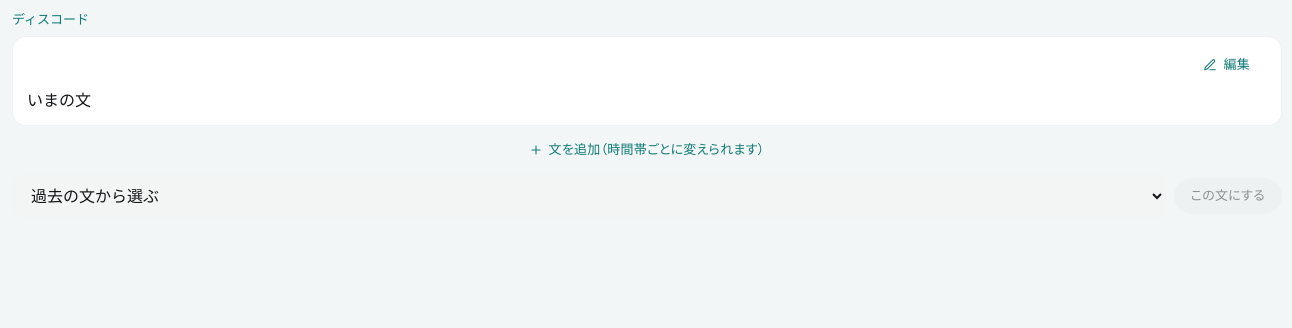
Test case: ChannelTextRow（トップの一番上の、いま投稿されている文） › その場で直す（編集） › 「やめる」で書きかけを捨てる。保存はしない
The image size is (1292, 328).
Click the button with aria-label "ディスコードの投稿する文を編集". click: x=1227, y=64
box: 1188,46 -> 1267,82
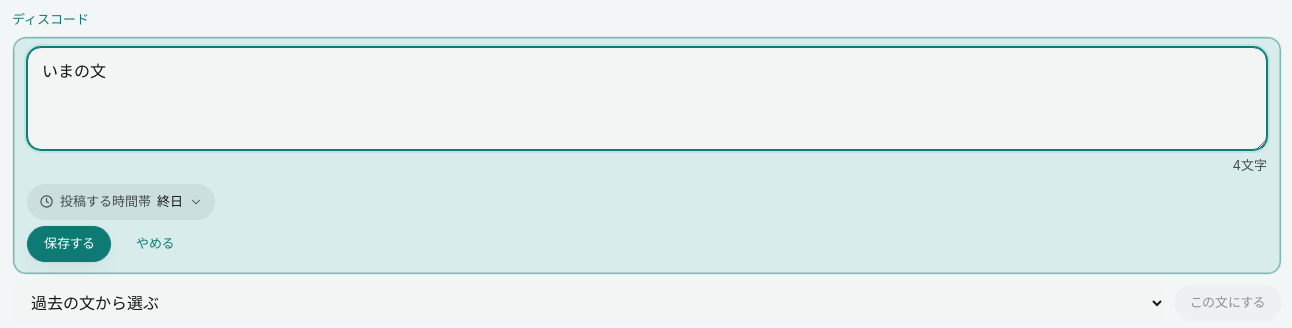
Replace the text in the text box named "ディスコードの投稿する文" with "捨てる文". click: x=647, y=98
box: 27,46 -> 1267,150
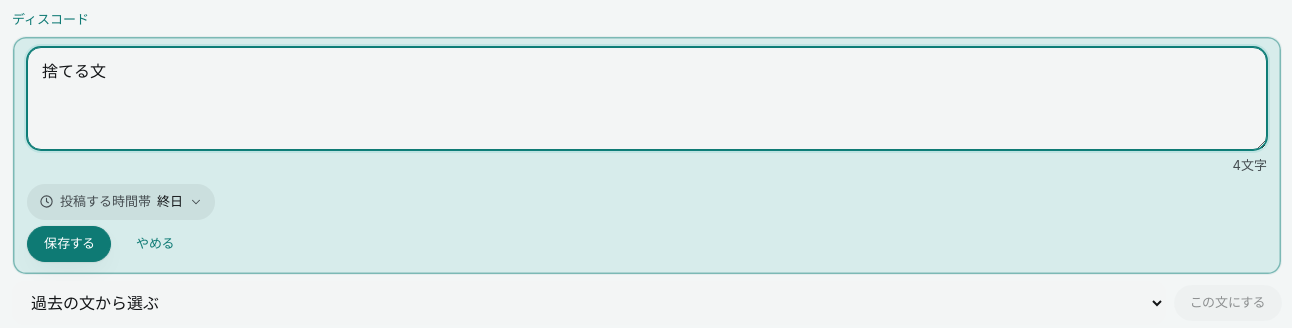
Click the button "やめる". click: x=155, y=244
box: 120,226 -> 191,262
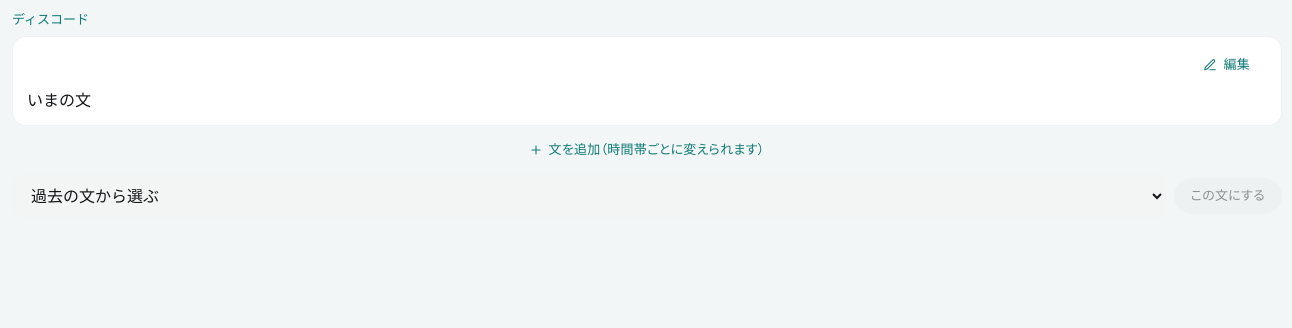
Check: the text "いまの文" is shown, box 27,90 -> 91,110
